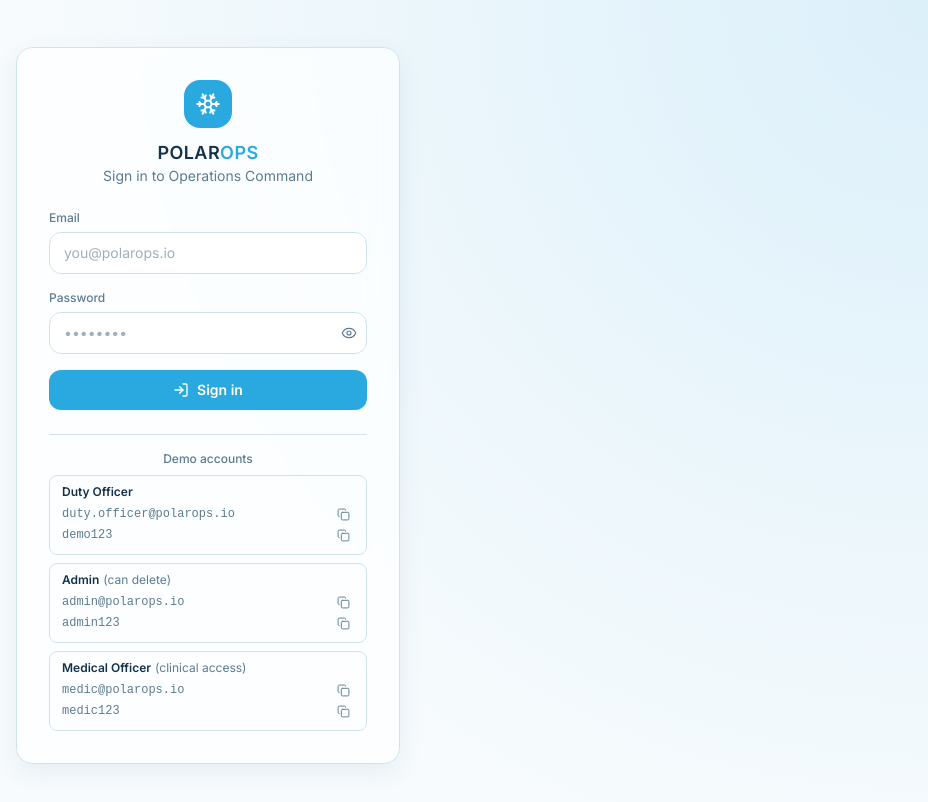
Test case: Login › shows a validation error when submitting with empty fields
This screenshot has width=928, height=802.
Step 1. Click the button "Sign in" → click(208, 390), box [49, 370, 367, 410]
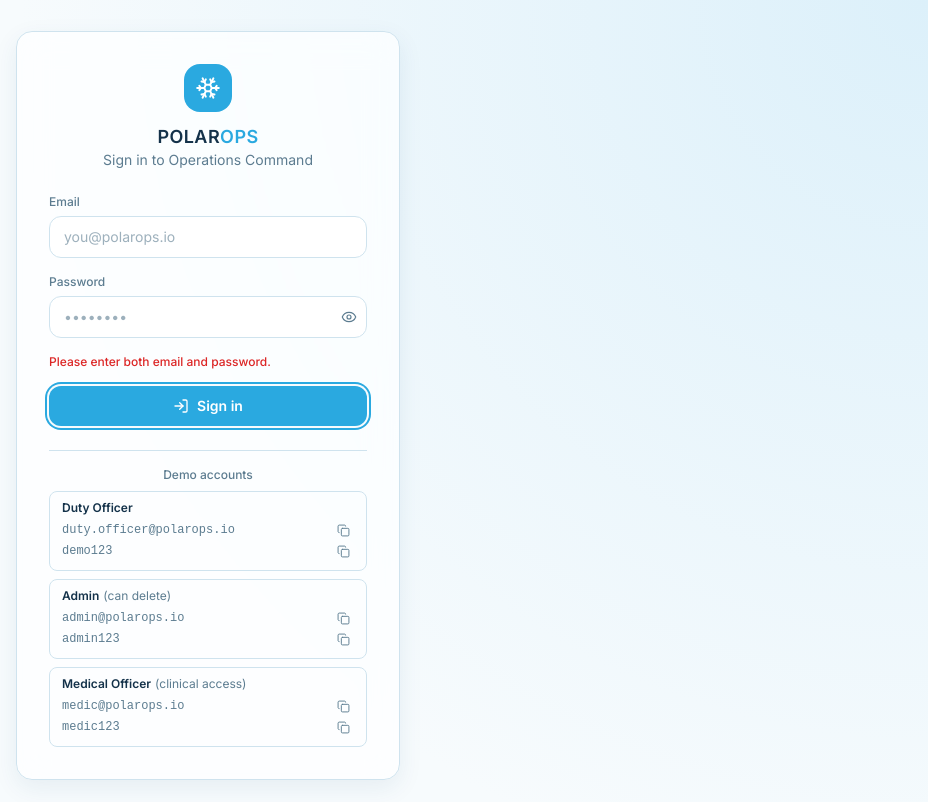
Check: the message reads "Please enter both email and password.", box [49, 354, 271, 368]
